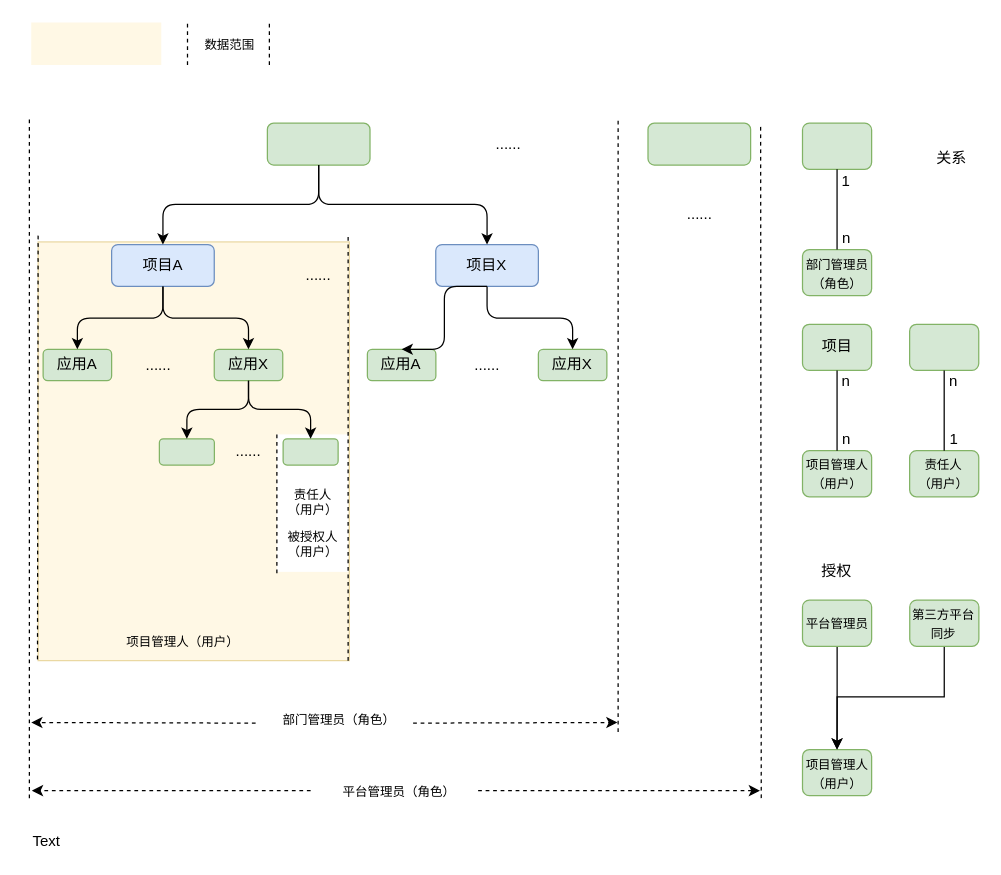
This 1001x875 diagram has some shape labels left out. Here are the shapes that lost their labels. From the top down, the centre of each, then its label:
At (96,43): "未实现".
At (318,143): "组织A".
At (699,143): "组织X".
At (836,145): "组织".
At (943,346): "资源".
At (186,451): "资源a".
At (310,451): "资源x".
